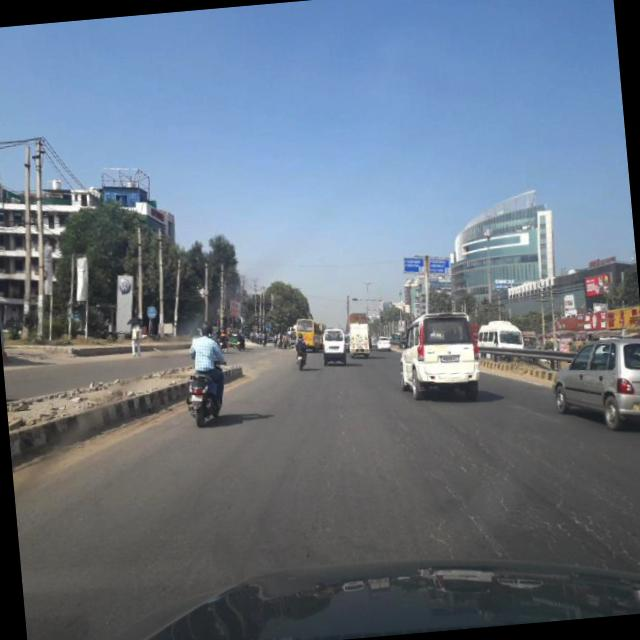crack: (96, 392, 640, 608)
